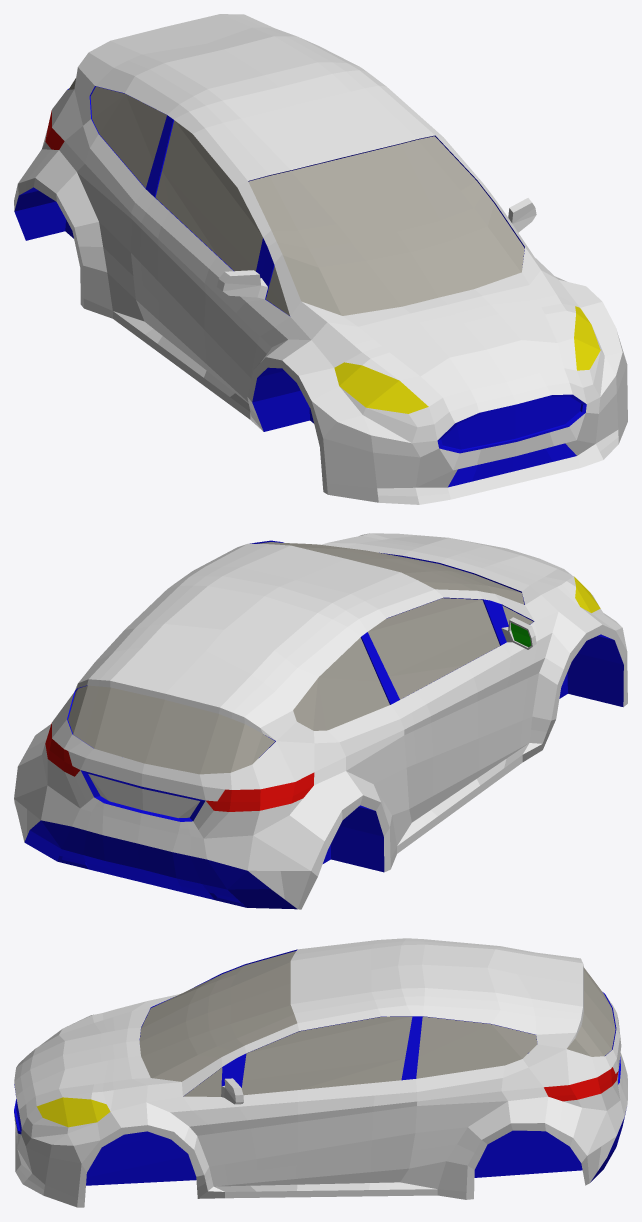
Rendered from Party (Model).fbx.
3 renders of one model, top to bottom at view 1: azimuth 30°, elevation 25°; view 2: azimuth 150°, elevation 25°; view 3: azimuth 270°, elevation 25°, orthographic. The views are drawn at different scales.
Parts seen in each view (by area): view 1: RalliJr; view 2: RalliJr; view 3: RalliJr.
Boxes of the visible parts, x1,y1,x2,y2 form: RalliJr: [14, 14, 627, 504]; RalliJr: [14, 533, 627, 909]; RalliJr: [14, 938, 627, 1207].
Bounding box in the file's own units: 1.96 × 4.07 × 1.34.
